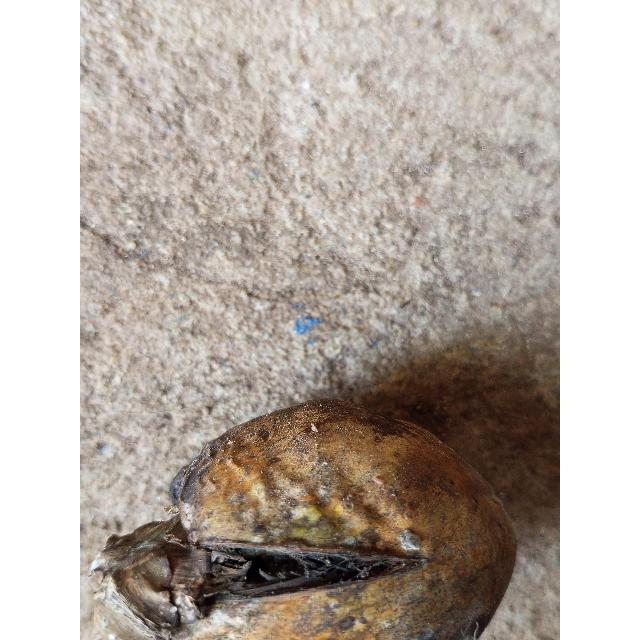damaged: (91, 400, 516, 640)
